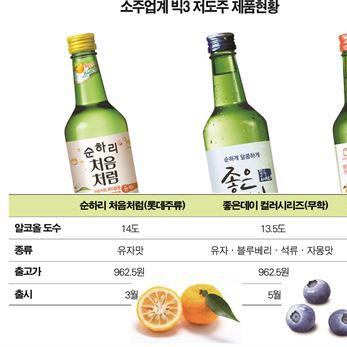soju: (57, 31, 147, 200), (200, 31, 284, 200), (334, 31, 347, 196)
